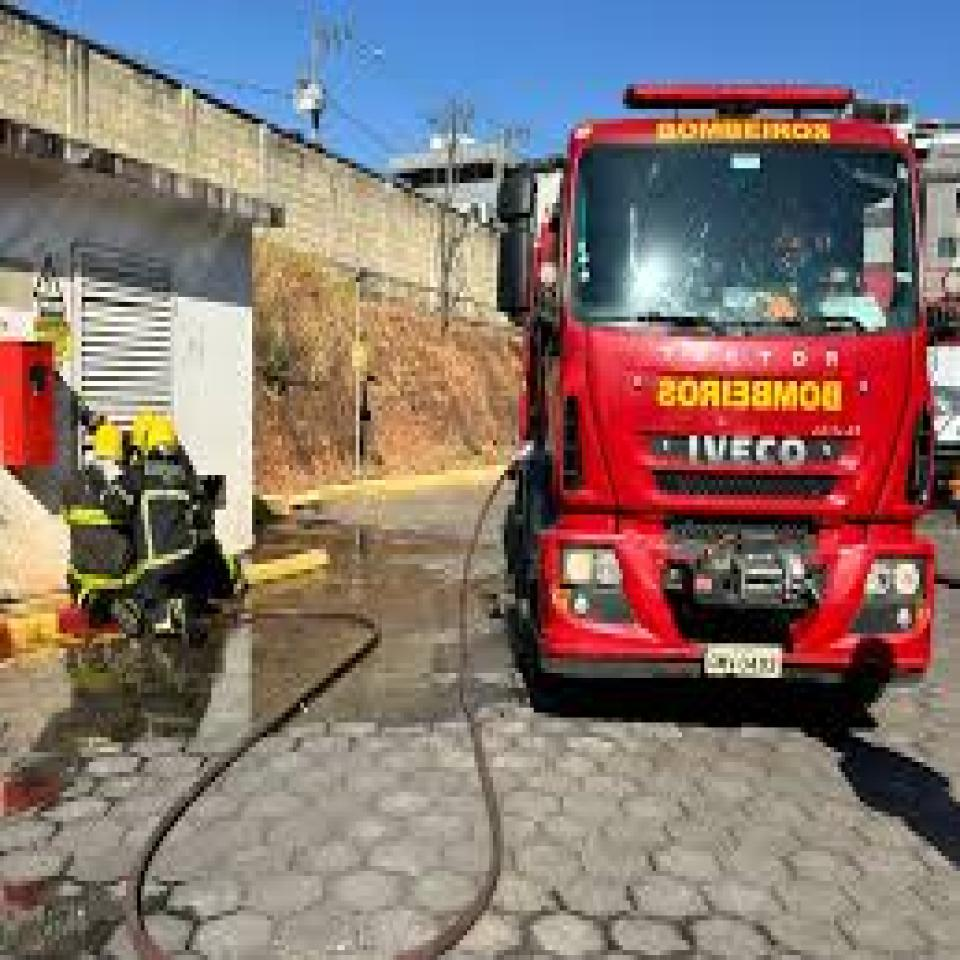viatura: (496, 83, 936, 684)
